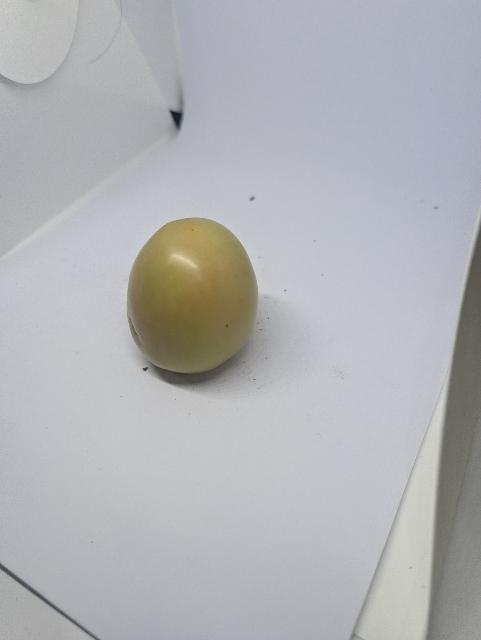breaker: (127, 218, 258, 373)
